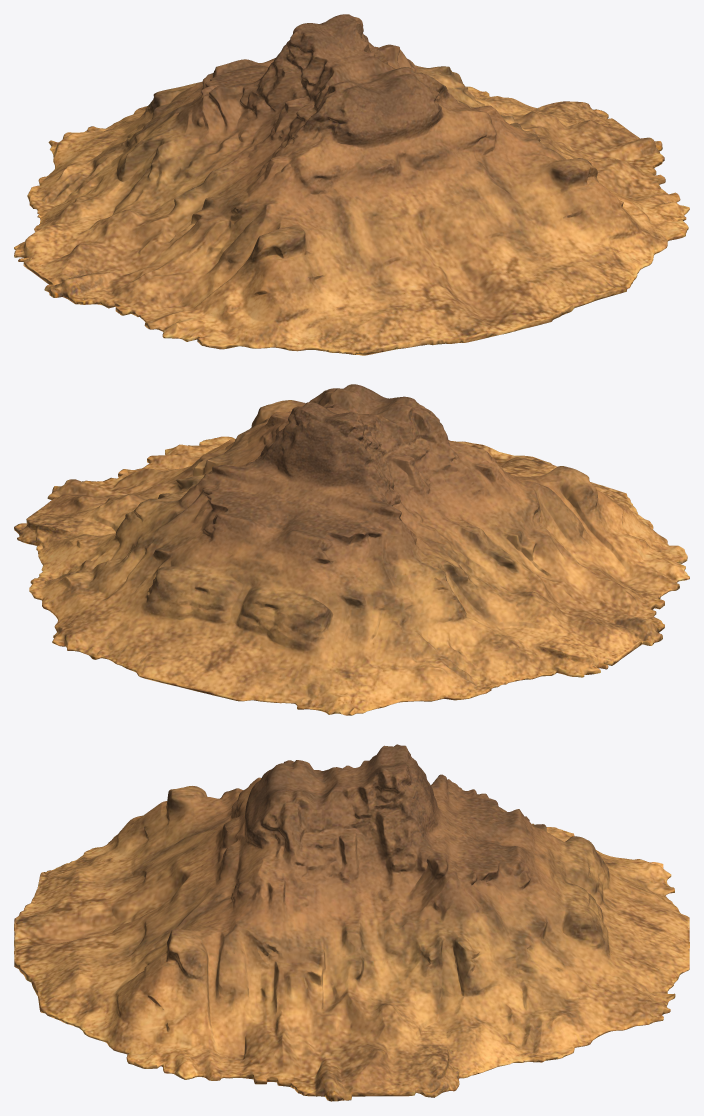
Rendered from Hnoid_Mountain.fbx.
The picture shows the model from 3 angles, top to bottom: view 1: azimuth 30°, elevation 25°; view 2: azimuth 150°, elevation 25°; view 3: azimuth 270°, elevation 25°; orthographic projection. The views are drawn at different scales.
Visible parts, largest first — view 1: tripo_node_99f86a15; view 2: tripo_node_99f86a15; view 3: tripo_node_99f86a15.
Boxes of the visible parts, x1,y1,x2,y2 form: tripo_node_99f86a15: [14, 14, 689, 355]; tripo_node_99f86a15: [14, 384, 689, 715]; tripo_node_99f86a15: [14, 744, 689, 1101].
Bounding box in the file's own units: 1 × 0.2794 × 0.9101.
Materials: 1 (1 with a texture image).
